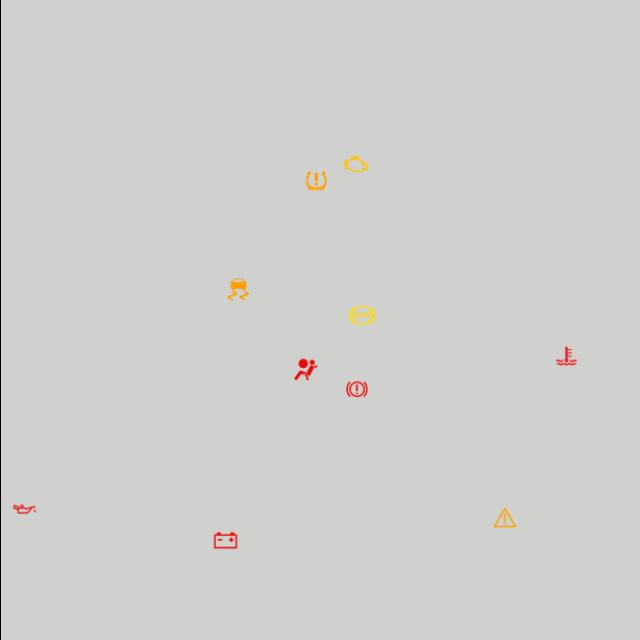Anti Lock Braking System: (347, 302, 375, 330)
Braking System Issue: (342, 376, 370, 404)
Charging System Issue: (210, 526, 238, 554)
Check Engine: (341, 150, 369, 178)
Electronic Stability Problem -ESP-: (223, 276, 251, 304)
Engine Overheating Warning Light: (552, 342, 580, 370)
Low Engine Oil Warning Light: (10, 495, 38, 523)
Low Tire Pressure Warning Light: (302, 167, 330, 195)
Master warning light: (490, 504, 518, 532)
SRS-Airbag: (291, 356, 319, 384)
